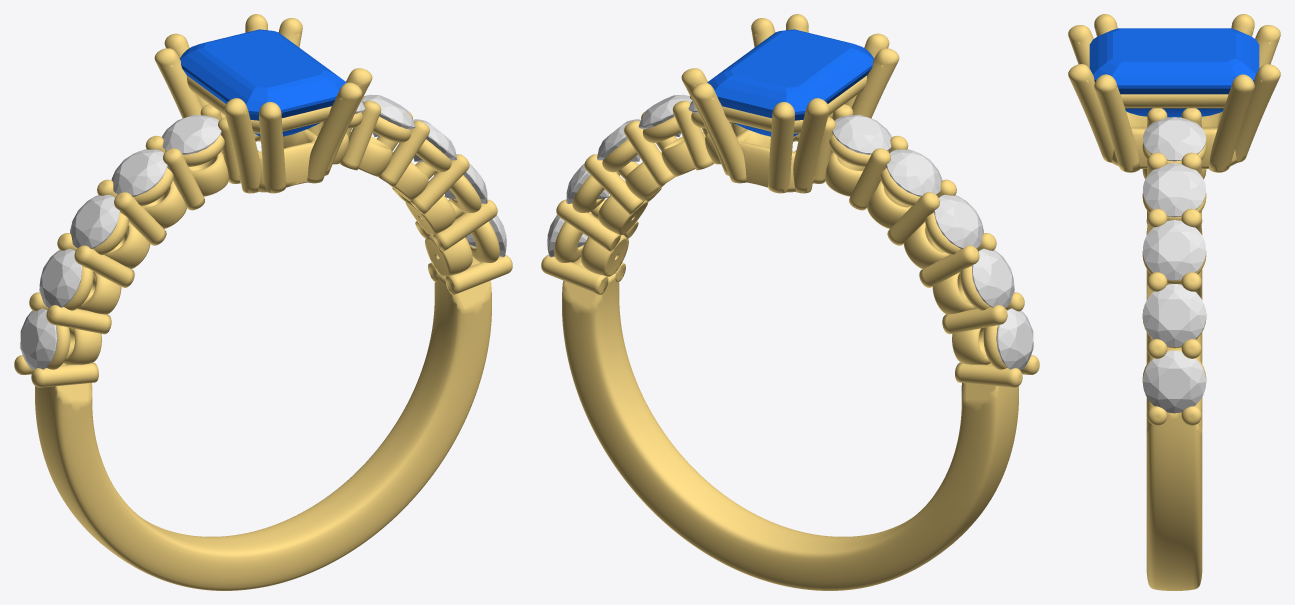
File: bluesapphire-emerald-yellowgold-8prong-straightband-11stone.glb
3 views of the same model, side by side, from view 1: azimuth 30°, elevation 25°; view 2: azimuth 150°, elevation 25°; view 3: azimuth 270°, elevation 25° (orthographic).
Parts seen in each view (by area): view 1: metal.001, stone, side.004, side.005, side.003, side, side.006, side.010; view 2: metal.001, stone, side.004, side.005, side.003, side, side.006, side.010; view 3: metal.001, stone, side.008, side.007, side.009, side.010, side.011.
Part boxes in pixels (x1,y1,x2,y2): metal.001: (14, 14, 512, 590); stone: (180, 29, 346, 136); side.004: (70, 194, 119, 248); side.005: (111, 149, 167, 196); side.003: (39, 248, 81, 307); side: (20, 308, 57, 369); side.006: (162, 114, 221, 154); side.010: (361, 94, 415, 137); metal.001: (541, 14, 1039, 590); stone: (707, 29, 873, 136); side.004: (934, 194, 983, 248); side.005: (886, 149, 942, 196); side.003: (972, 248, 1014, 307); side: (996, 308, 1033, 369); side.006: (832, 114, 891, 154); side.010: (638, 94, 692, 137); metal.001: (1068, 14, 1280, 590); stone: (1089, 28, 1259, 117); side.008: (1143, 284, 1205, 346); side.007: (1143, 350, 1205, 413); side.009: (1143, 220, 1205, 280); side.010: (1143, 163, 1205, 217); side.011: (1143, 117, 1205, 161).
Size of the model in its own units: 21.87 by 22.75 by 8.4.
